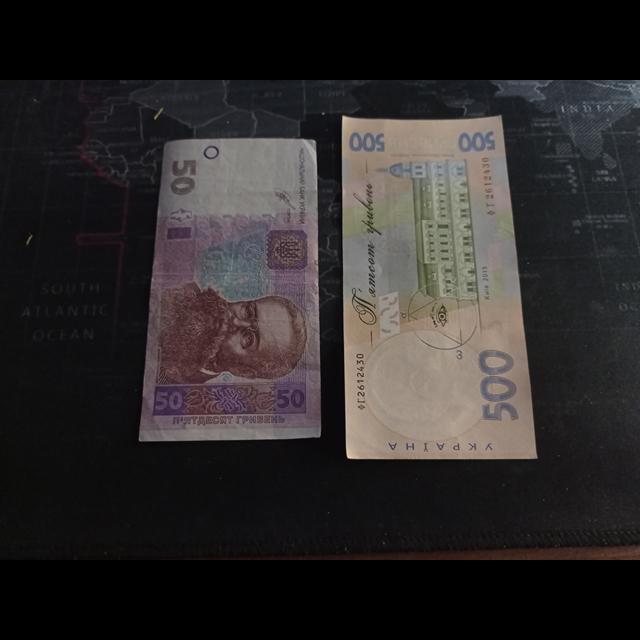500uah: (342, 114, 536, 459)
50uah: (140, 139, 319, 440)
